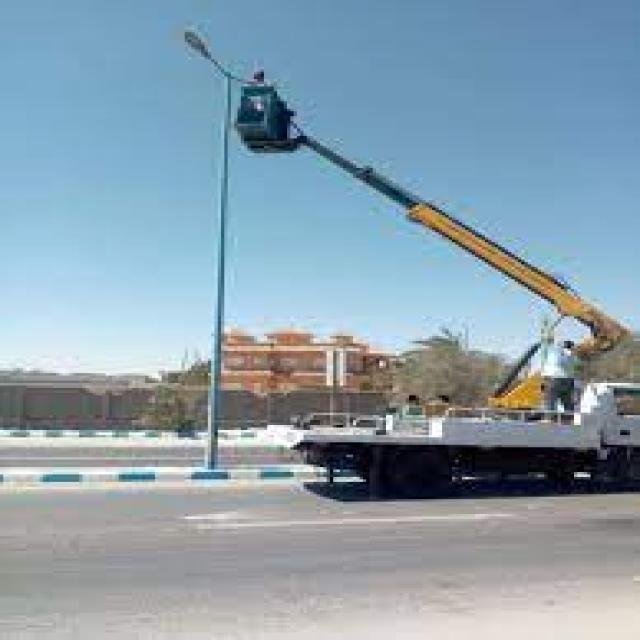Street Light: (175, 24, 241, 470)
